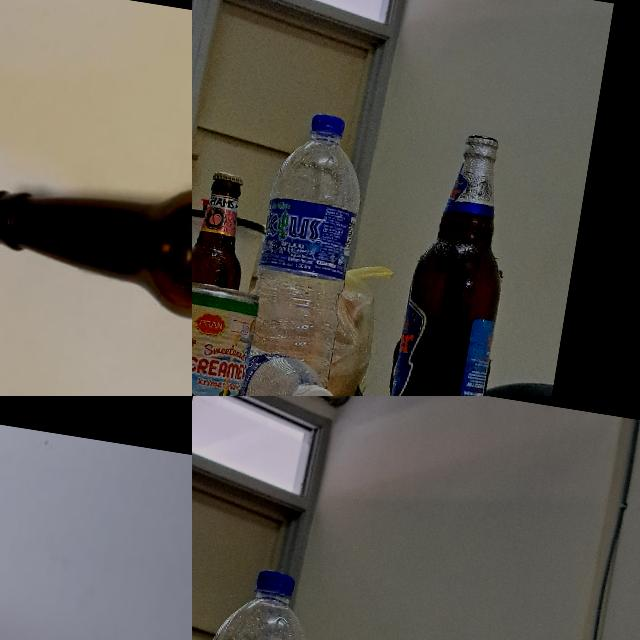garrafa de vidro: (0, 148, 192, 370), (382, 126, 524, 396), (0, 506, 192, 640), (192, 163, 259, 290)
garrafa plástica: (240, 106, 374, 392), (240, 345, 347, 396)
lata: (192, 273, 257, 396)
tampa plástica: (253, 566, 298, 598), (310, 114, 348, 144), (287, 377, 340, 396)
